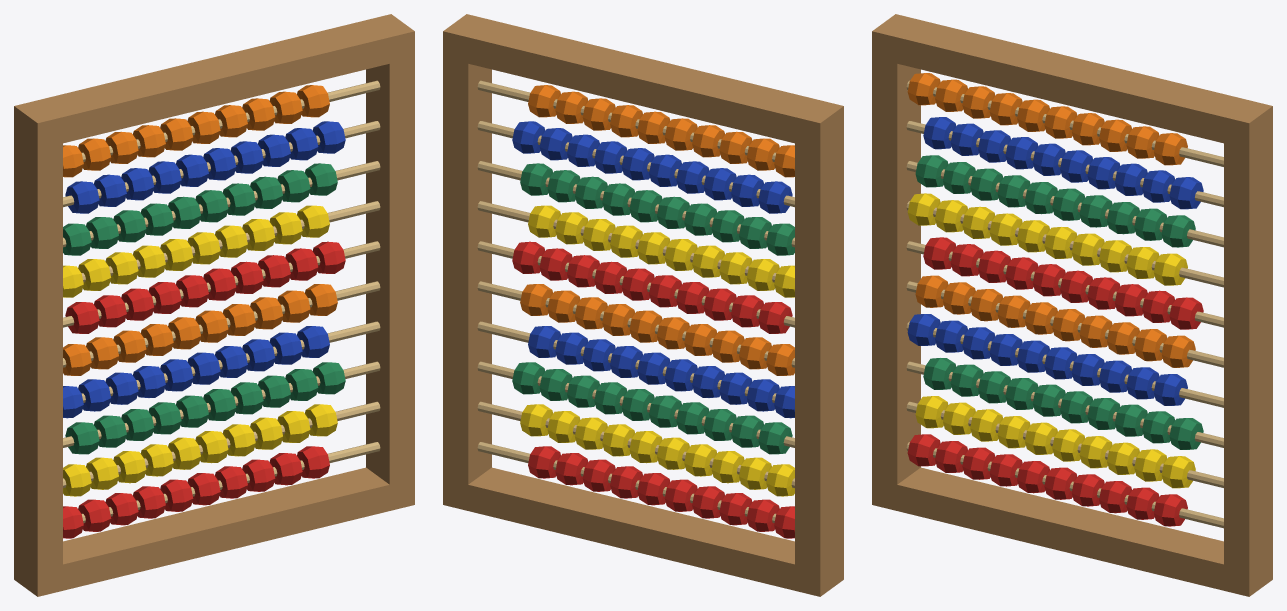
Rendered from NEW_RECOVERY_050_LOD0.fbx.
3 renders of one model, left to right at view 1: azimuth 30°, elevation 25°; view 2: azimuth 150°, elevation 25°; view 3: azimuth 330°, elevation 25°, orthographic.
Visible parts, largest first — view 1: Abacus frozen single object; view 2: Abacus frozen single object; view 3: Abacus frozen single object.
Part boxes in pixels (<box>): Abacus frozen single object: <box>14,14,414,596</box>; Abacus frozen single object: <box>443,14,843,596</box>; Abacus frozen single object: <box>872,14,1272,596</box>.
Size of the model in its own units: 120 by 13 by 144.
